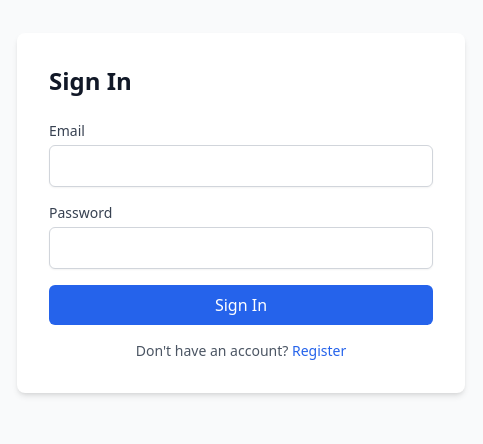
it: LoginPage › shows error message on failed login
In the field labelled "Email": (241, 166) [49,145,433,187], type "test@example.com"
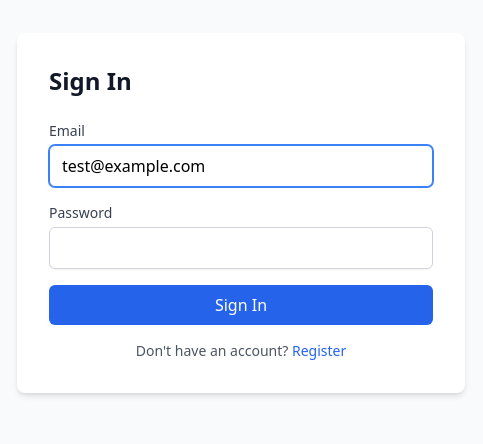
In the password field labelled "Password": (241, 248) [49,227,433,269], type "wrongpassword"
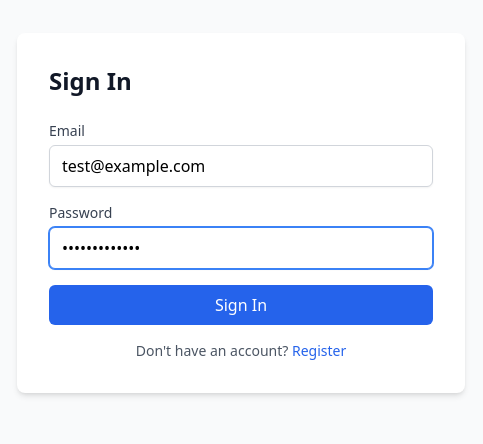
Click the button "Sign In": (241, 305) [49,285,433,325]
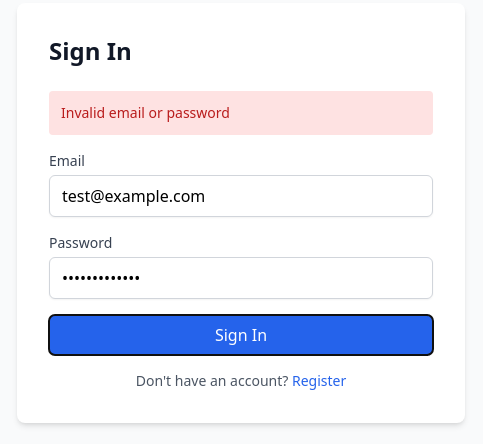
Expected: the message reads "Invalid email or password", [61,103,230,122]
